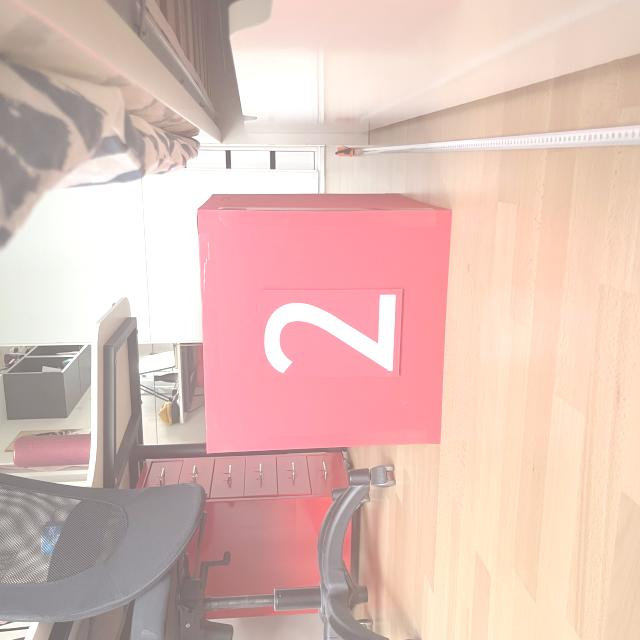box: (191, 188, 456, 454)
